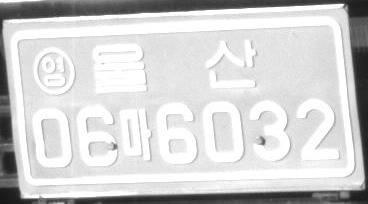0: (201, 101, 245, 163), (31, 107, 74, 169)
2: (294, 97, 340, 161)
3: (249, 99, 290, 162)
6: (155, 102, 198, 165), (76, 105, 118, 166)
마: (118, 107, 153, 161)
영: (33, 47, 76, 96)
울산_D: (92, 38, 257, 94)
